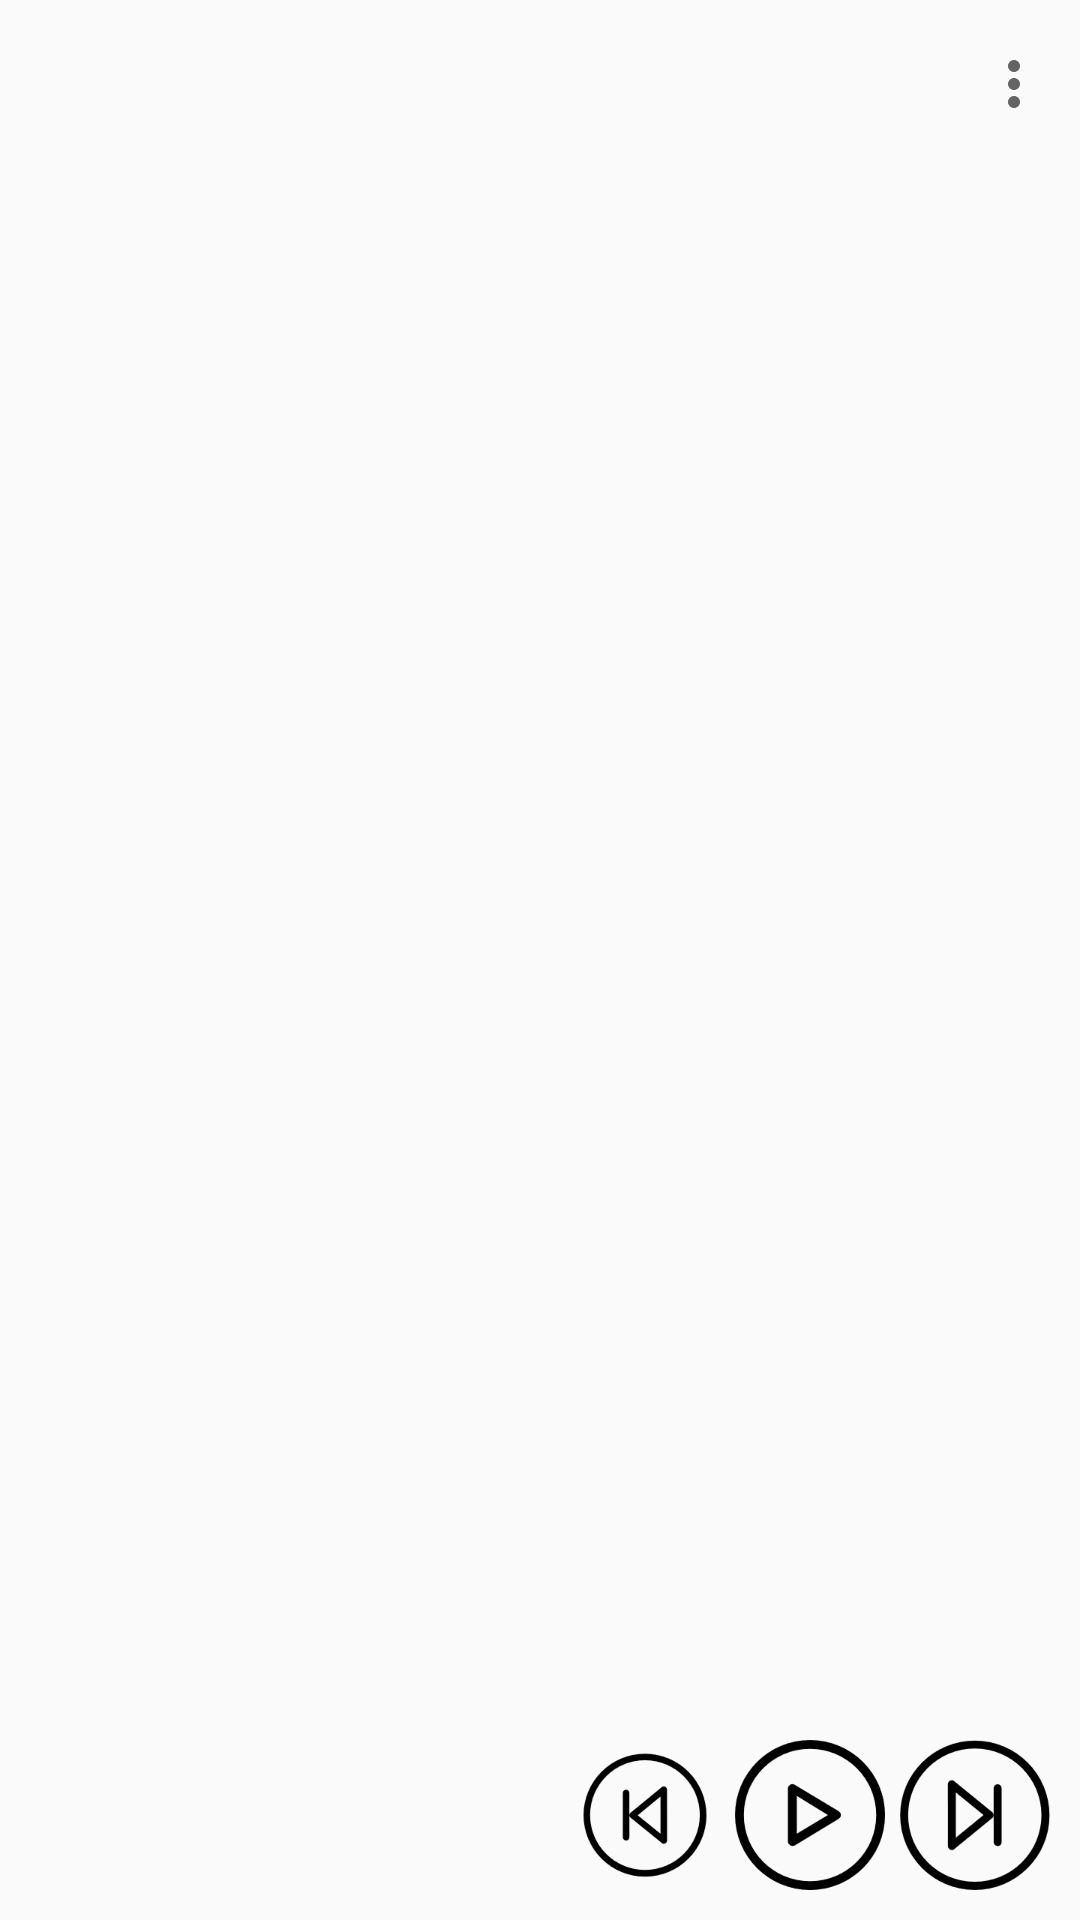

Icon bounding boxes for this 1080px x 1920px phone screenshot, format (x1, y1, x2, y2):
next music: (900, 1740, 1050, 1890)
pre music: (583, 1753, 707, 1877)
start music: (735, 1740, 885, 1890)
